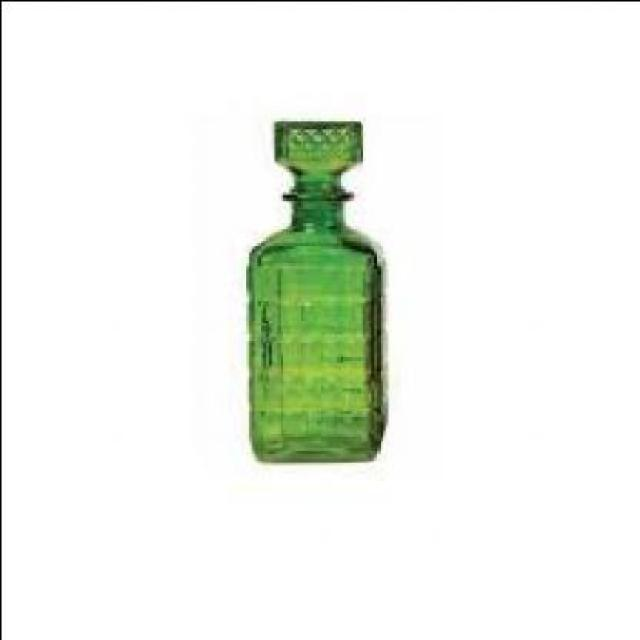GLASS: (242, 116, 388, 458)
